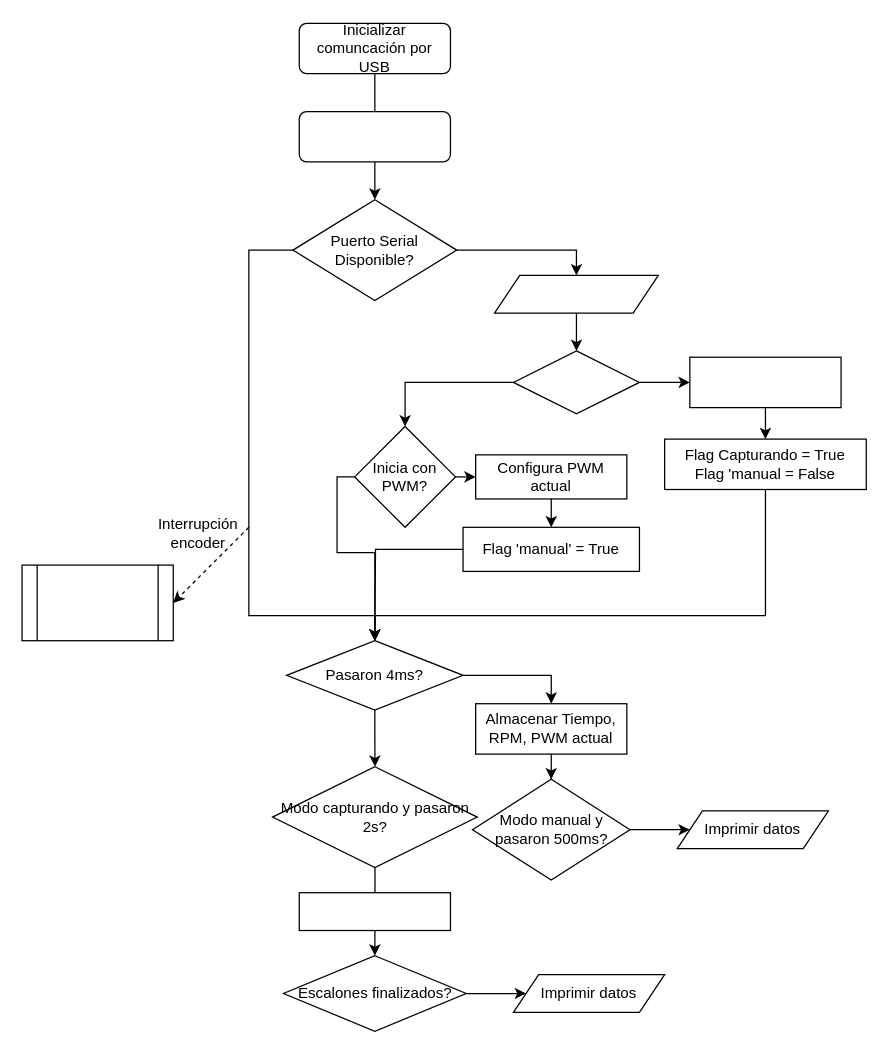
Some shapes in this 888 by 1053 pixel diagram are drawn without their labels. Here are the shapes that lost their labels. From the top down, the centre of each, then its label:
point (374, 136): Configurar PWM
point (575, 293): Leer Puerto Serial
point (575, 382): Inicia con START?
point (765, 382): Configurar paso PWM
point (97, 602): Incrementa conteo de pulsos
point (374, 911): Incrementar o decrementar PWM
